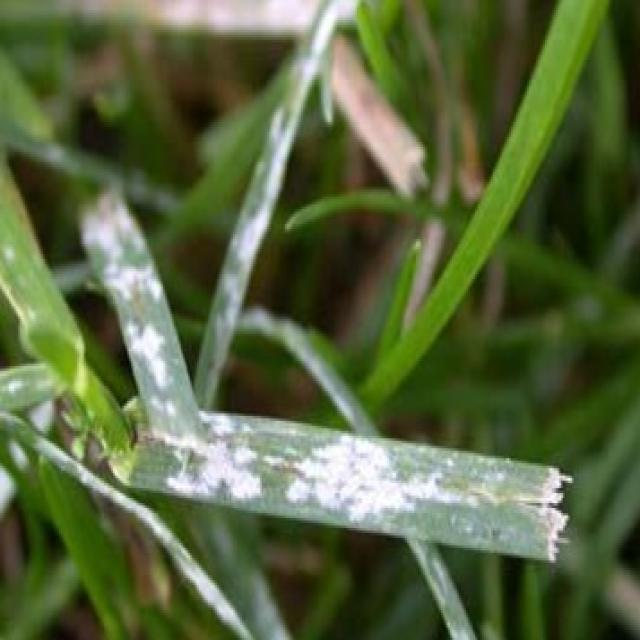Powdery Mildew: (85, 217, 540, 562)
